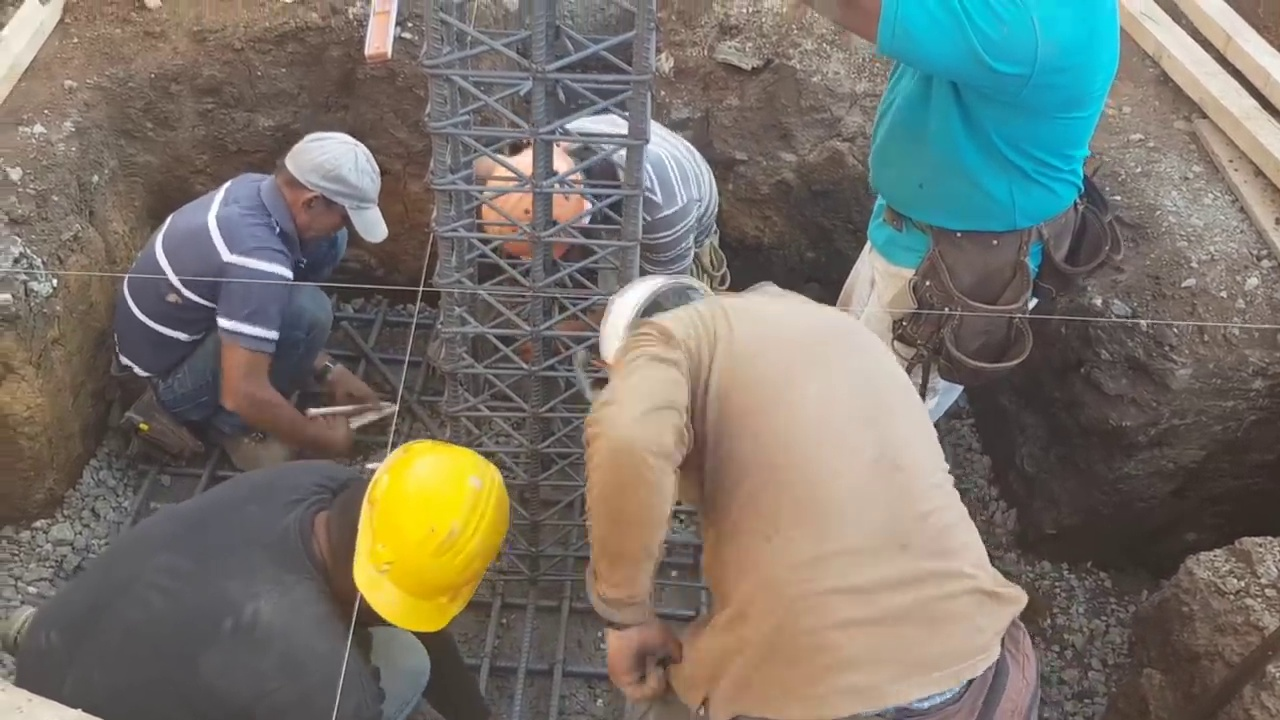helmet: (342, 442, 499, 624), (475, 139, 589, 252)
helmet-off: (276, 131, 390, 252)
helmet-on: (306, 440, 508, 633), (475, 136, 625, 252), (595, 270, 724, 374)
person: (576, 282, 1052, 720), (4, 448, 514, 712), (831, 0, 1122, 409), (117, 122, 394, 483), (471, 118, 728, 353)
